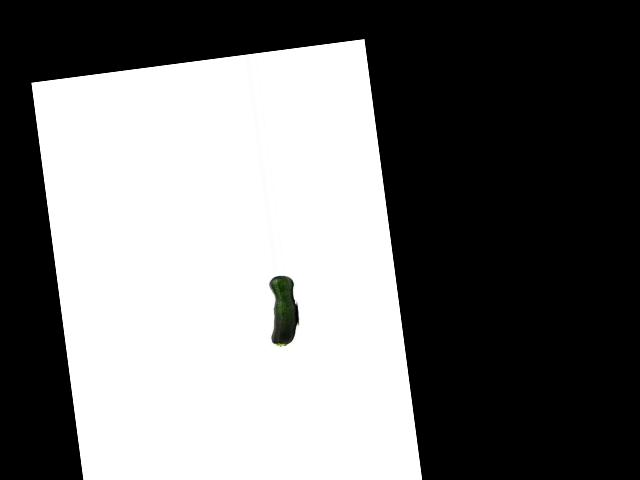cucumber: (263, 274, 301, 348)
